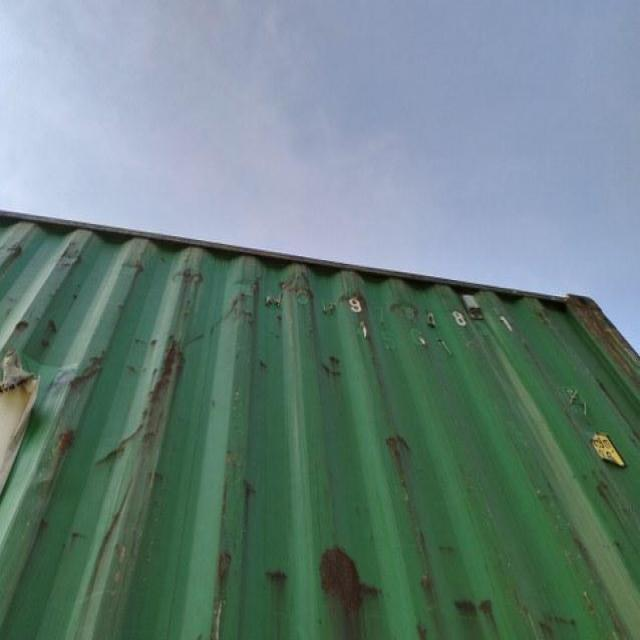rust: (130, 325, 184, 495), (317, 544, 381, 614), (382, 426, 414, 476)
